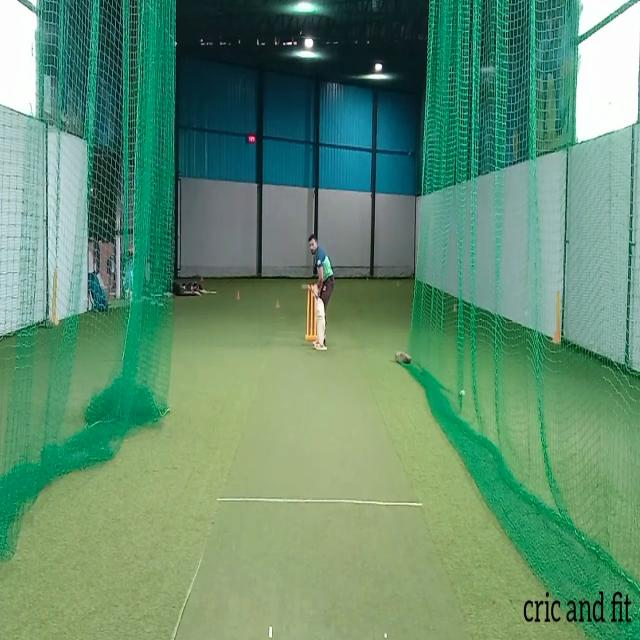batsman: (301, 232, 335, 352)
